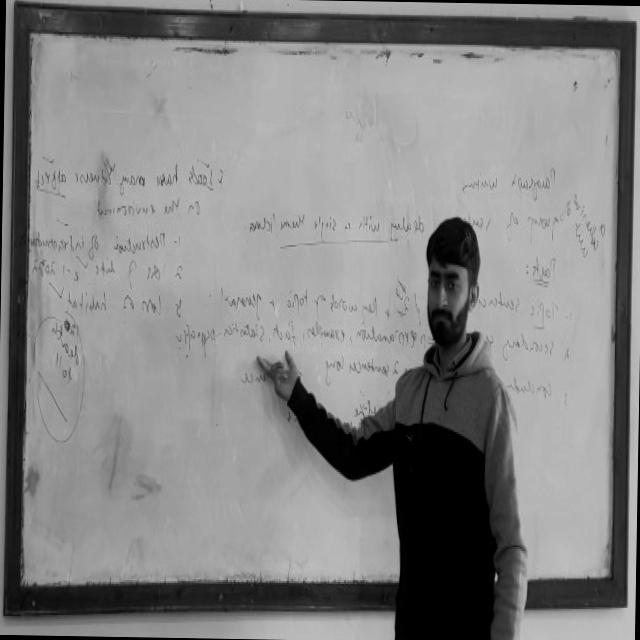Instructor: (384, 205, 518, 640)
White-board: (13, 19, 628, 603)
